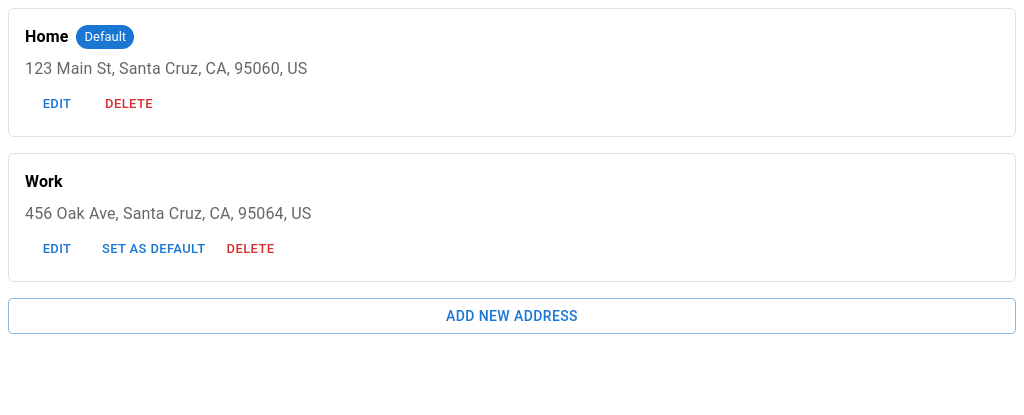
shows an error when delete fails
Click the button "Delete" below "123 Main St, Santa Cruz, CA, 95060, US" at (129, 104), box [97,89,161,120]
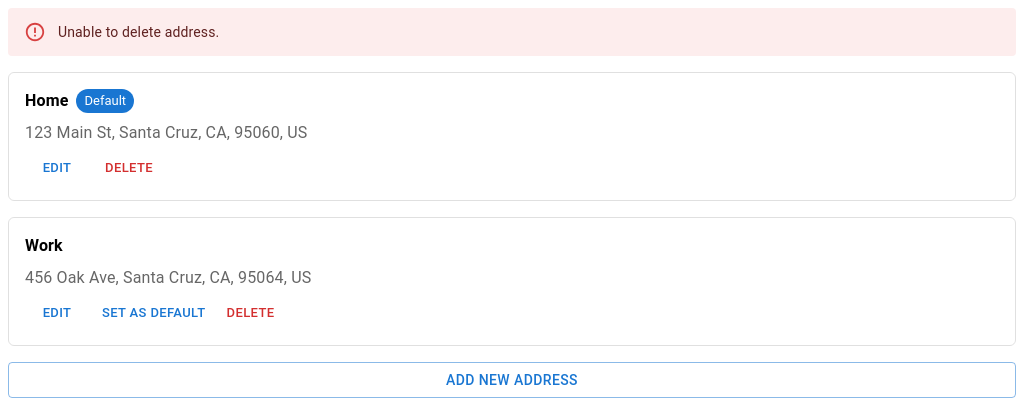
Check: the message reads "Unable to delete address.", box [58,24,220,40]
